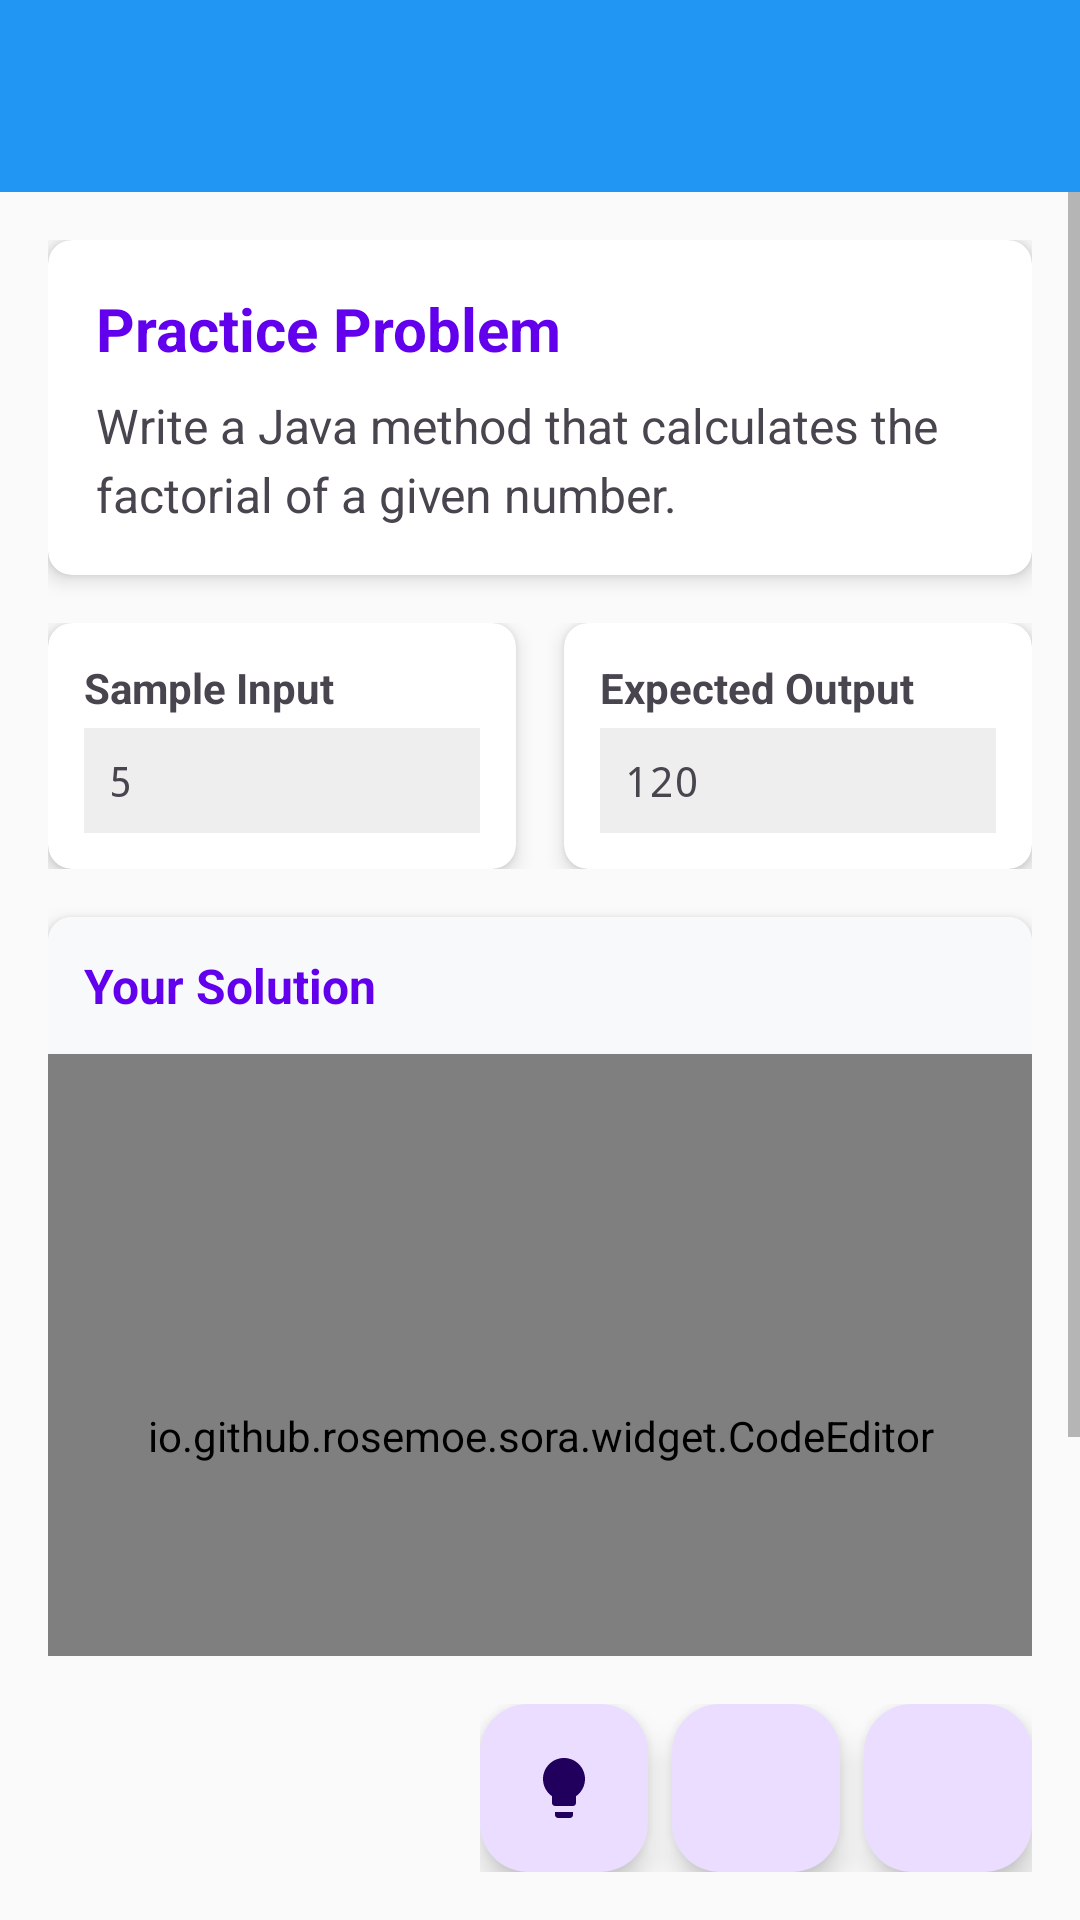

Icon click points for this 1080*1920 phone screenshot, format [x,y]:
Show hint: [564,1788]
